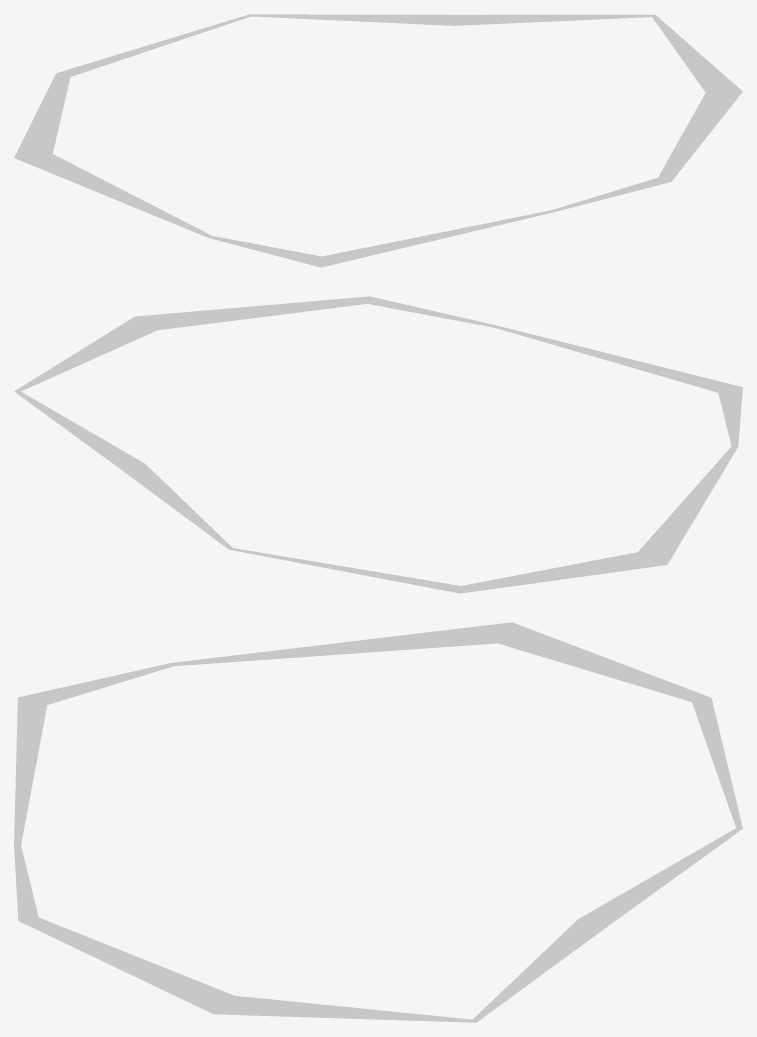
The model's file is Water_Line_01.FBX.
3 renders of one model, top to bottom at view 1: azimuth 30°, elevation 25°; view 2: azimuth 150°, elevation 25°; view 3: azimuth 270°, elevation 25°, orthographic. The views are drawn at different scales.
Parts seen in each view (by area): view 1: Water_Line_01; view 2: Water_Line_01; view 3: Water_Line_01.
Part boxes in pixels (x1=…): Water_Line_01: x1=14, y1=14, x2=742, y2=267; Water_Line_01: x1=14, y1=296, x2=742, y2=593; Water_Line_01: x1=14, y1=622, x2=742, y2=1022.
Bounding box in the file's own units: 6.83 × 2.3e-07 × 5.26.
